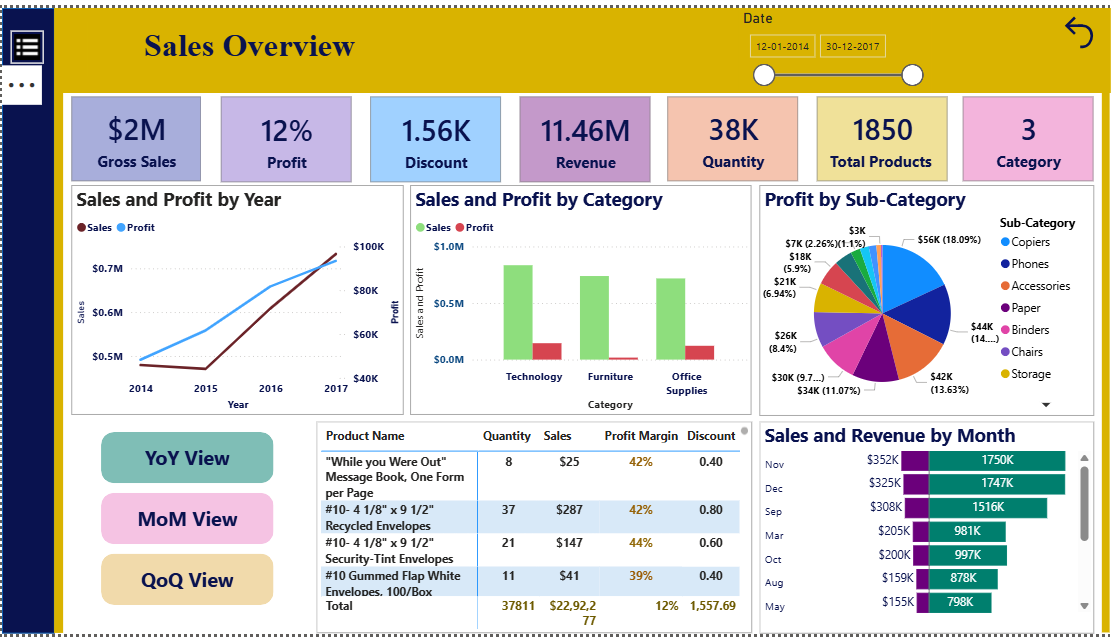

This screenshot's page, from the dashboard's own definition file:
{"tool":"powerbi","page":{"name":"Sales Overview","canvas":[1280,720],"ordinal":0},"visuals":[{"type":"pivotTable","fields":{"Values":["Sum(Sales_Data.Quantity)","Sum(Sales_Data.Sales)","Avg(Sales_Data.Profit/Loss)","Sum(Sales_Data.Discount)"],"Rows":["Sales_Data.Product Name"]},"box":[361.8,476,501.4,243.3],"z":0},{"type":"actionButton","box":[113.7,488.3,198.7,59.1],"z":0,"group":"g1"},{"type":"group","id":"g1","title":"View Buttons","box":[113.7,488.3,198.7,198.7],"z":1000},{"type":"actionButton","box":[113.7,558.1,198.7,59.1],"z":1000,"group":"g1"},{"type":"actionButton","title":"Hamburger  Menu","box":[10.6,25.8,37.9,37.9],"z":2000,"group":"g2"},{"type":"pieChart","fields":{"Y":["Sum(Sales_Data.Profit)"],"Category":["Sales_Data.Sub-Category"]},"box":[872,203.2,385.2,265.4],"z":2000},{"type":"actionButton","box":[113.7,627.8,198.7,59.1],"z":2000,"group":"g1"},{"type":"lineChart","fields":{"Y2":["Sum(Sales_Data.Profit)"],"Category":["Calender.Date.Variation.Date Hierarchy.Year"],"Y":["Sum(Sales_Data.Sales)"]},"box":[80.4,204.7,382.2,263.9],"z":6000},{"type":"TornadoChart1452517688218","fields":{"Category":["Calender.Month"],"Values":["Sum(Sales_Data.Sales)","All Measures.Revenue"]},"box":[872,476.2,385.2,244.2],"z":7000},{"type":"card","title":"QuantityCard","fields":{"Values":["Count(Sales_Data.Product Name)"]},"box":[938.4,101.9,150.5,97.1],"z":8000},{"type":"clusteredColumnChart","fields":{"Category":["Sales_Data.Category"],"Y":["Sum(Sales_Data.Sales)","Sum(Sales_Data.Profit)"]},"box":[470.1,204.7,392.8,263.9],"z":9000},{"type":"card","title":"QuantityCard","fields":{"Values":["Sum(Sales_Data(1).Quantity)"]},"box":[766.9,101.9,150.5,97.1],"z":10000},{"type":"card","title":"Revenue Card","fields":{"Values":["All Measures.Revenue"]},"box":[595.4,101.9,150.5,98.7],"z":11000},{"type":"card","title":"DiscountCard","fields":{"Values":["Sum(Sales_Data(1).Discount)"]},"box":[423.9,101.9,150.5,98.7],"z":12000},{"type":"card","title":"GrossSlesCard","fields":{"Values":["Sum(Sales_Data(1).Sales)"]},"box":[80.9,101.9,148.9,97.1],"z":13000},{"type":"card","title":"ProfitCard","fields":{"Values":["Avg(Sales_Data.Profit/Loss)"]},"box":[252.4,101.9,150.5,98.7],"z":14000},{"type":"shape","box":[69.2,0,1207.4,97.9],"z":15000},{"type":"actionButton","title":"Reset","box":[1216.8,3.4,63.2,47.9],"z":16000},{"type":"textbox","title":"sales title","box":[98.6,15.2,374.6,62.2],"z":17000},{"type":"slicer","title":"Date","fields":{"Values":["Sales_Data(1).Order Date"]},"box":[847.9,2.9,221.3,93.4],"z":18000},{"type":"shape","title":"Navyblue","box":[0,0,60.7,720],"z":19000},{"type":"shape","title":"Yello","box":[59.2,0,10.6,719.3],"z":20000},{"type":"shape","box":[1266.5,94.6,10.1,624.8],"z":21000},{"type":"card","title":"QuantityCard","fields":{"Values":["Count(Sales_Data.Category)"]},"box":[1106.7,101.9,150.5,97.1],"z":22000},{"type":"group","id":"g2","title":"Menu Bar","box":[10.6,25.8,37.9,37.9],"z":23000}]}

Visuals, with their boxes on the page's 1280x720 design canvas (x1, y1, x2, y2). These are canvas units, not pixel positions in the 1112x638 screenshot, which may show the page scaled, cropped or inside an application window:
pivotTable - Sum(Sales_Data.Quantity) x Sum(Sales_Data.Sales): 362, 476, 863, 719
actionButton: 114, 488, 312, 547
"View Buttons" group: 114, 488, 312, 687
actionButton: 114, 558, 312, 617
"Hamburger  Menu" actionButton: 11, 26, 48, 64
pieChart - Sum(Sales_Data.Profit) x Sales_Data.Sub-Category: 872, 203, 1257, 469
actionButton: 114, 628, 312, 687
lineChart - Sum(Sales_Data.Profit) x Calender.Date.Variation.Date Hierarchy.Year: 80, 205, 463, 469
TornadoChart1452517688218 - Calender.Month x Sum(Sales_Data.Sales): 872, 476, 1257, 720
"QuantityCard" card: 938, 102, 1089, 199
clusteredColumnChart - Sales_Data.Category x Sum(Sales_Data.Sales): 470, 205, 863, 469
"QuantityCard" card: 767, 102, 917, 199
"Revenue Card" card: 595, 102, 746, 201
"DiscountCard" card: 424, 102, 574, 201
"GrossSlesCard" card: 81, 102, 230, 199
"ProfitCard" card: 252, 102, 403, 201
shape: 69, 0, 1277, 98
"Reset" actionButton: 1217, 3, 1280, 51
"sales title" textbox: 99, 15, 473, 77
"Date" slicer: 848, 3, 1069, 96
"Navyblue" shape: 0, 0, 61, 720
"Yello" shape: 59, 0, 70, 719
shape: 1266, 95, 1277, 719
"QuantityCard" card: 1107, 102, 1257, 199
"Menu Bar" group: 11, 26, 48, 64
